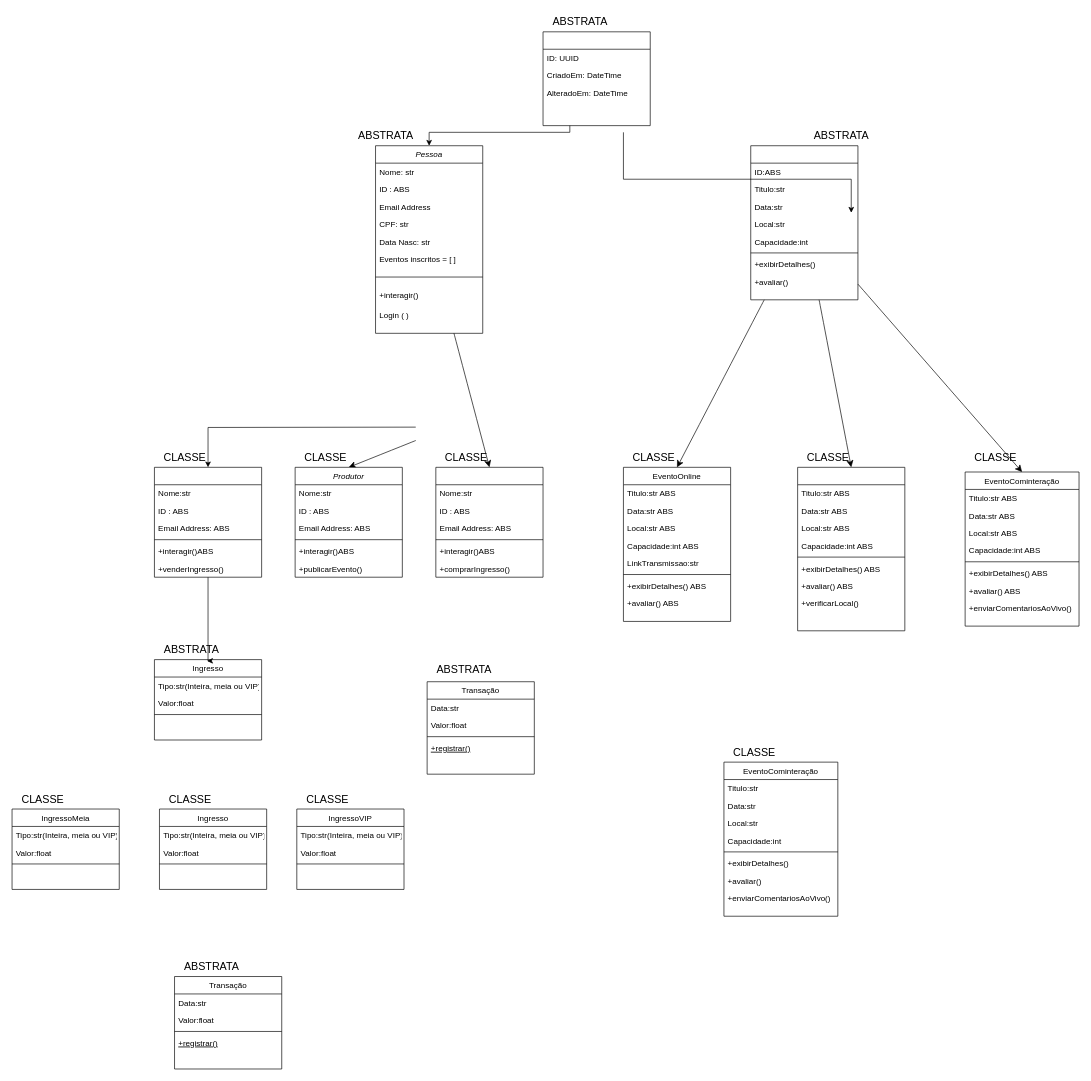
The diagram is 1091 pixels wide and 1081 high, and some of its shapes have lost their labels. Each missing label, with the box of its shape:
EntidadeBase: (542, 31, 650, 126)
Evento: (750, 145, 858, 300)
EventoPresencial: (797, 467, 905, 631)
Participante: (435, 467, 543, 577)
VendedorIngresso: (154, 467, 262, 577)
